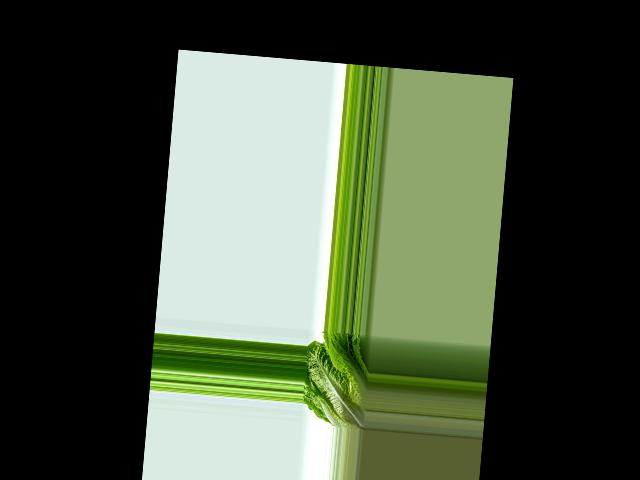lettuce: (301, 328, 372, 429)
